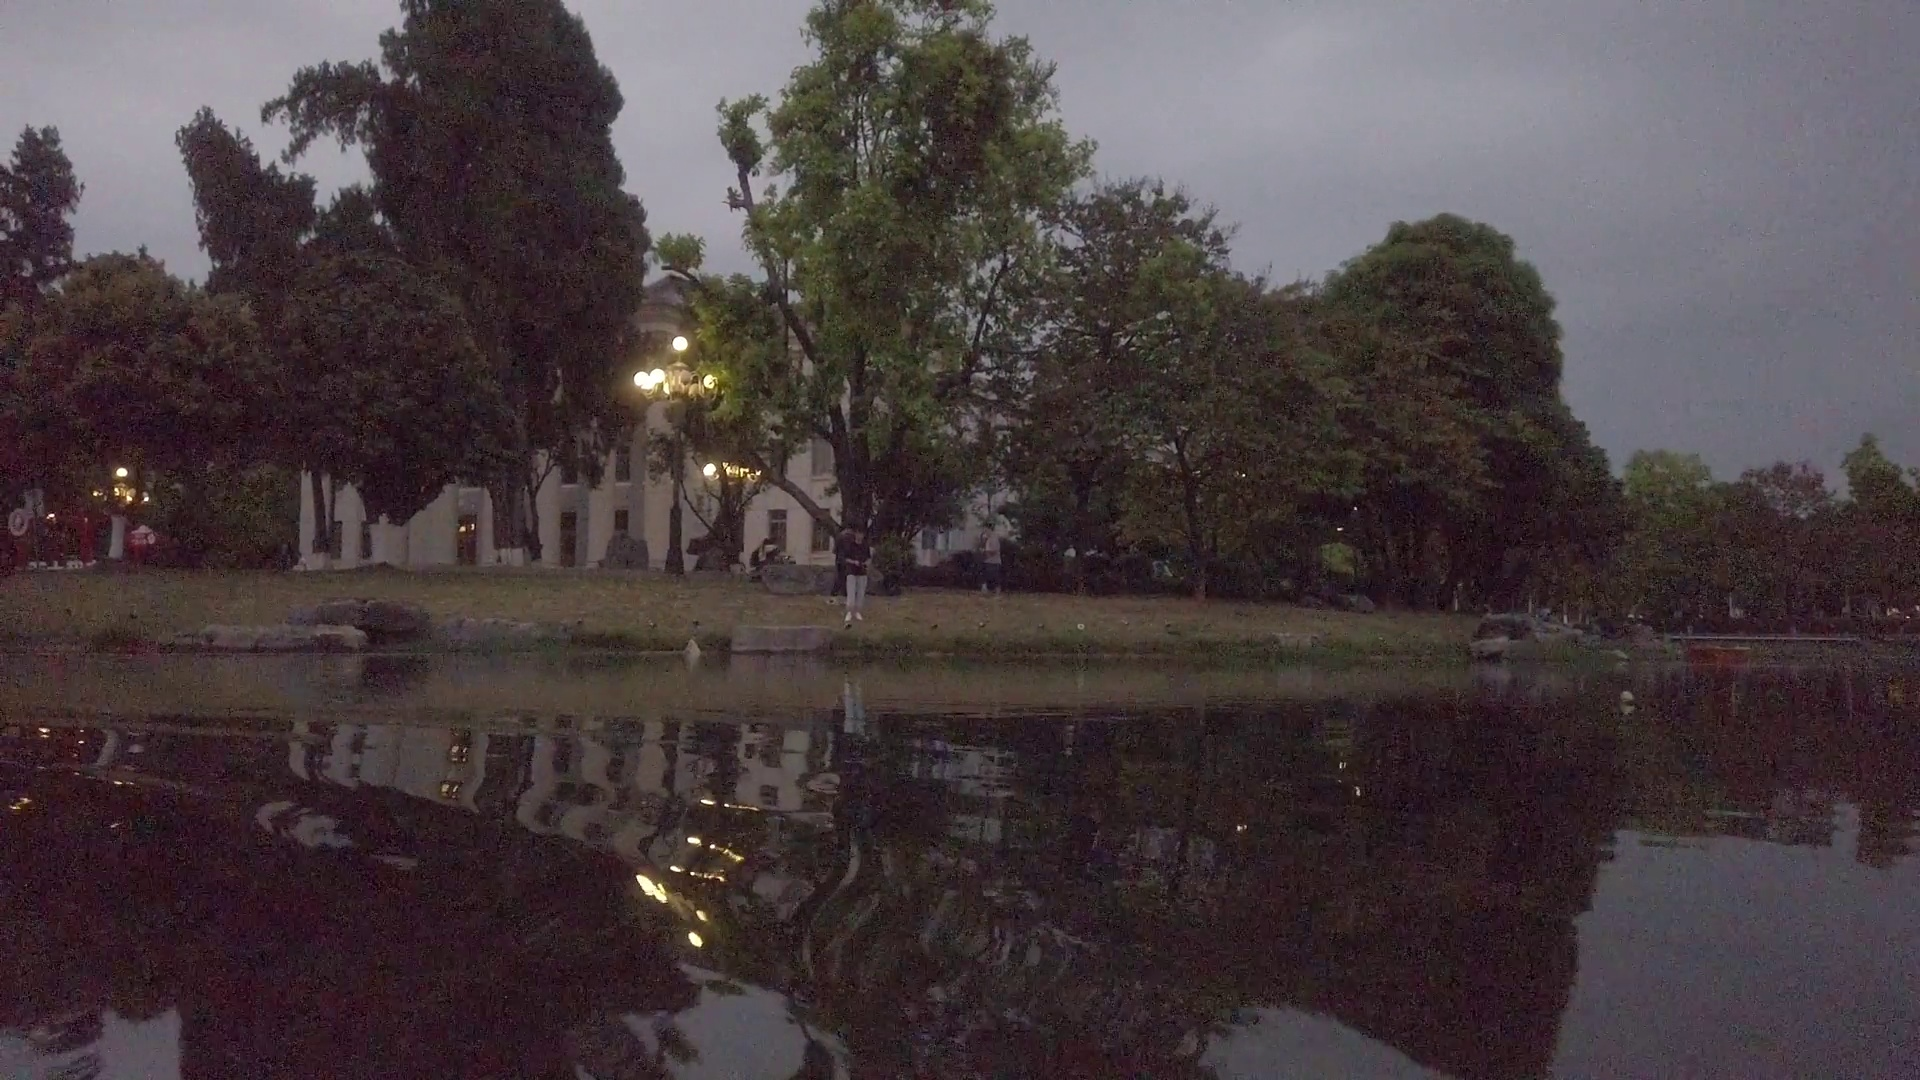bottle: (1619, 690, 1635, 707)
